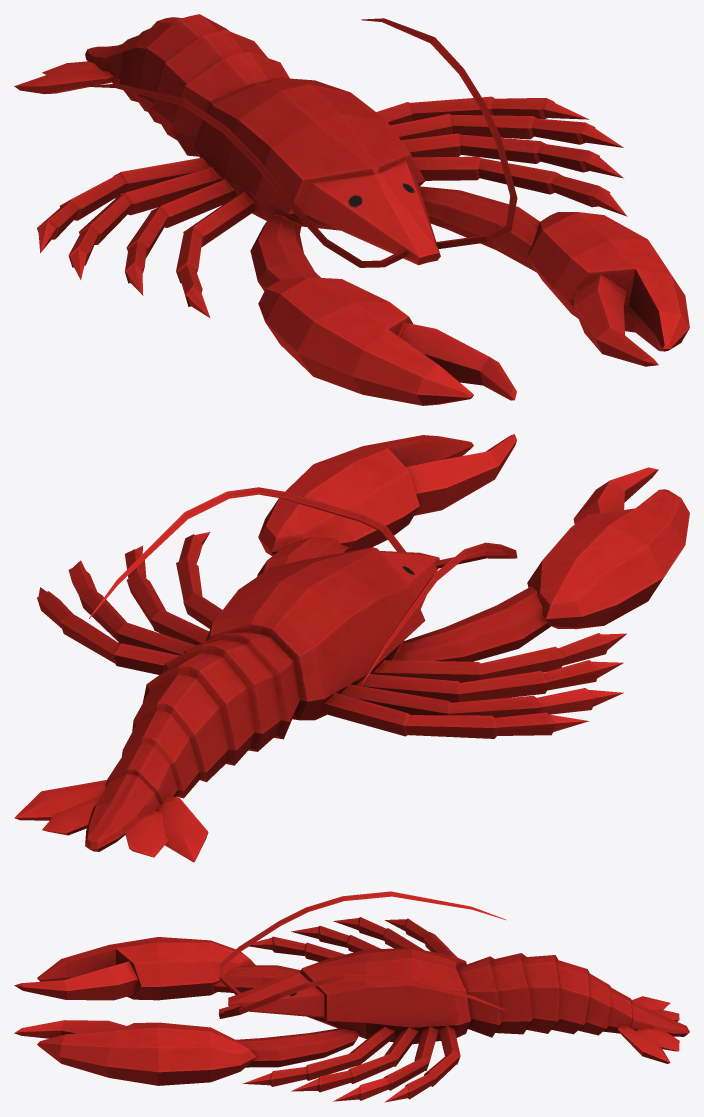
The model's file is 7JIU-w5So3a.glb.
3 renders of one model, top to bottom at view 1: azimuth 30°, elevation 25°; view 2: azimuth 150°, elevation 25°; view 3: azimuth 270°, elevation 25°, orthographic. The views are drawn at different scales.
Parts seen in each view (by area): view 1: Lobster_mesh; view 2: Lobster_mesh; view 3: Lobster_mesh.
Boxes of the visible parts, box(x1,y1,x2,y2) form: Lobster_mesh: box(14, 14, 689, 405); Lobster_mesh: box(14, 434, 689, 862); Lobster_mesh: box(14, 891, 689, 1102).
Bounding box in the file's own units: 3.74 × 0.9998 × 5.85.
1 material, 1 textured.
